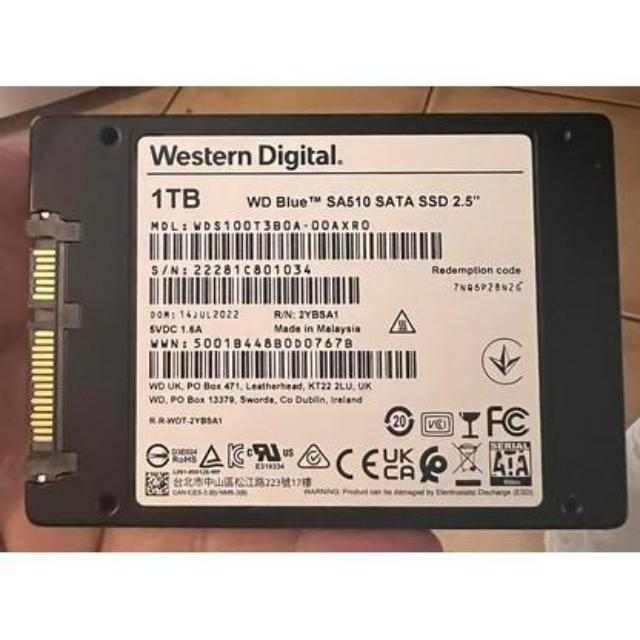DISK: (18, 109, 630, 548)
